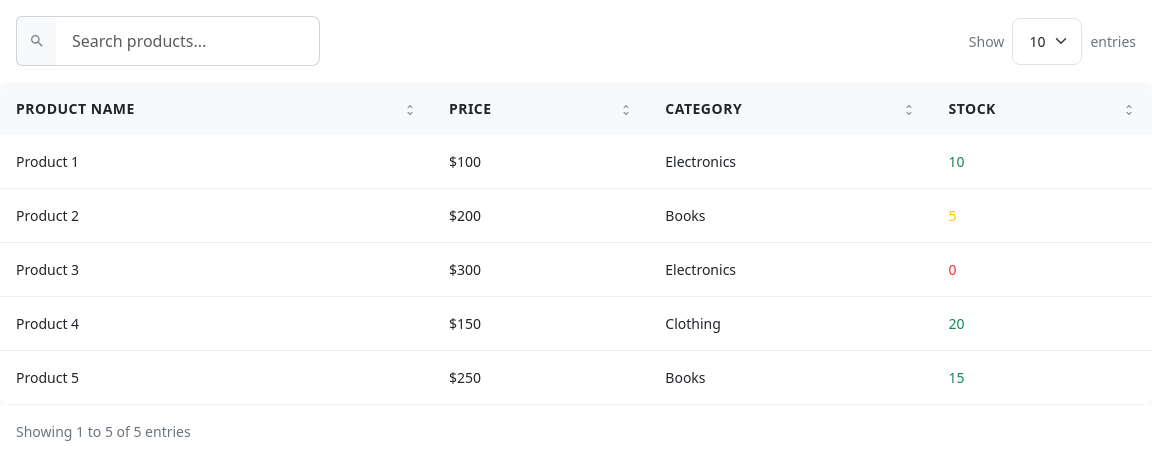
Test case: DataTable Component › Filtering › should filter data based on search input
The width and height of the screenshot is (1152, 458).
Search for "Product 2"
Type "Product 2" into the field with placeholder "Search products..." at (188,41), box [56,16,320,66]
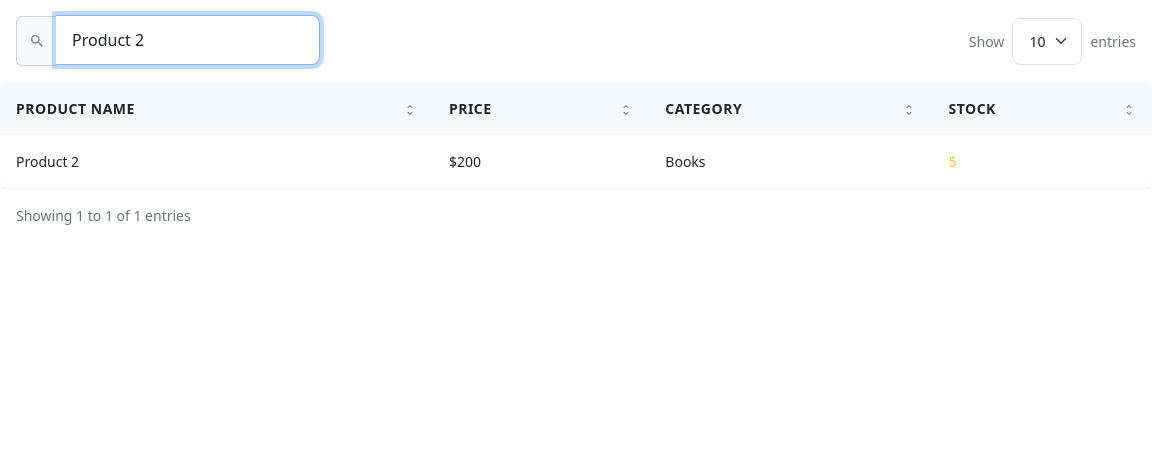
Expected: the text "Product 2" is shown, [0,135,433,189]
Now the text "Product 1" is gone
Now the text "Product 3" is gone
